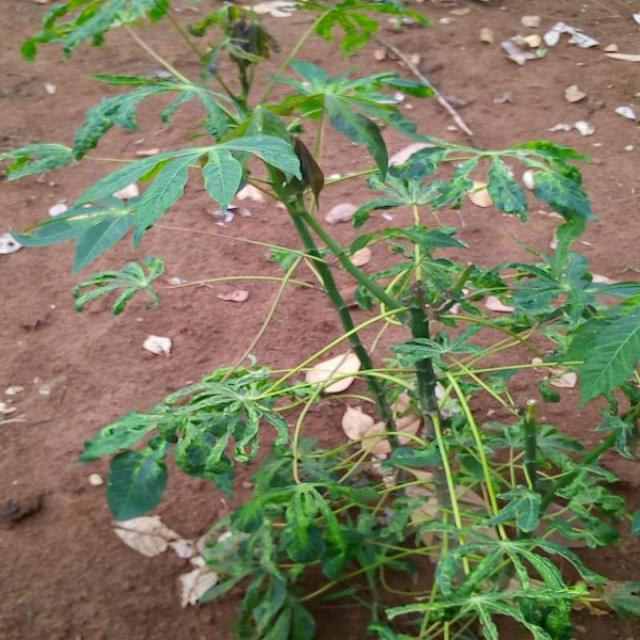cassava leaf: (2, 1, 638, 638), (105, 447, 168, 522)
